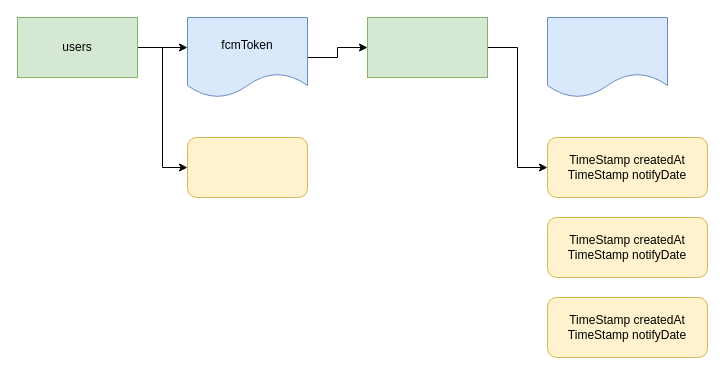
Image size: 725x375. Some labels were removed from this diagram. Each missing label, with the centre of its shape:
post: (427,47)
String fcmToken TimeStamp createdAt: (247,167)
{postID}: (607,57)
